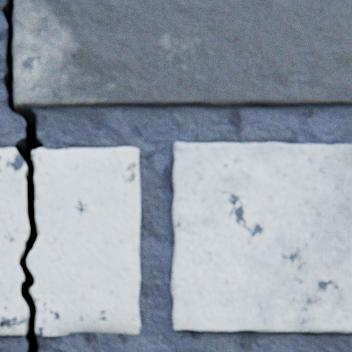brick: (13, 0, 351, 107), (170, 143, 351, 332)
broken_brick: (27, 148, 139, 335), (0, 149, 29, 334)
crack: (1, 0, 43, 351)
